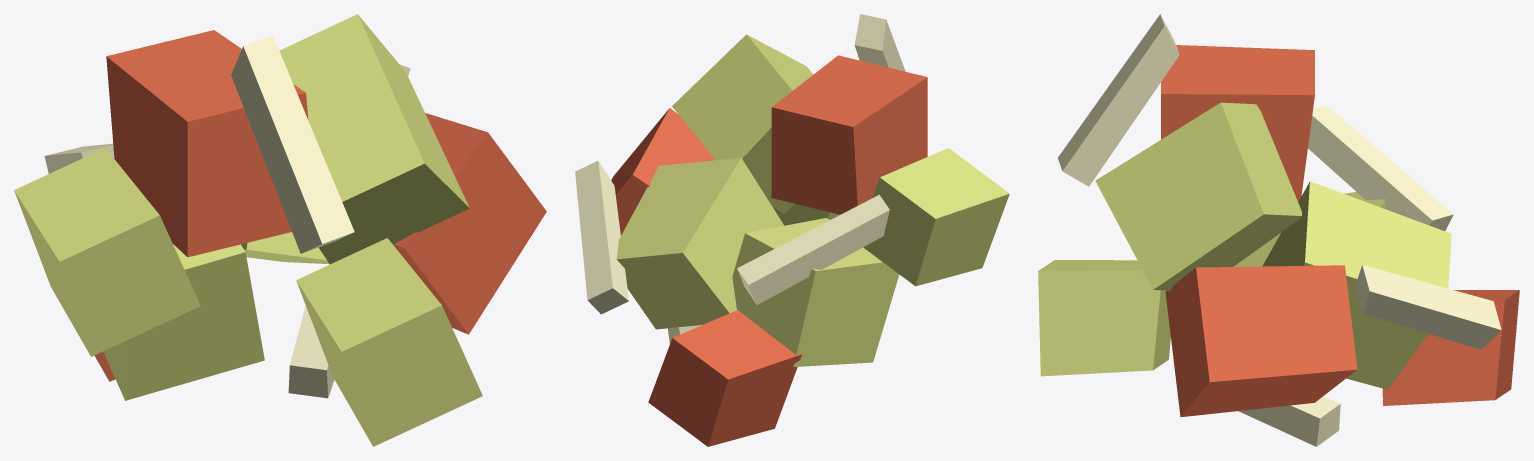
Rendered from CurryMix.fbx.
3 views of the same model, side by side, from view 1: azimuth 30°, elevation 25°; view 2: azimuth 150°, elevation 25°; view 3: azimuth 270°, elevation 25° (orthographic). The views are drawn at different scales.
Visible parts, largest first — view 1: Cube, Cube.001, Cube.007, Cube.005, Cube.002, Cube.004, Cube.011, Cube.010, Cube.003, Cube.008; view 2: Cube, Cube.003, Cube.006, Cube.004, Cube.005, Cube.001, Cube.008, Cube.009, Cube.002, Cube.011, Cube.007; view 3: Cube.002, Cube.001, Cube.003, Cube.007, Cube, Cube.006, Cube.011, Cube.009, Cube.008, Cube.010, Cube.004.
Boxes of the visible parts, box(x1,y1,x2,y2) form: Cube: box(106, 30, 308, 257); Cube.001: box(279, 14, 469, 264); Cube.007: box(296, 238, 482, 446); Cube.005: box(14, 148, 200, 356); Cube.002: box(393, 113, 546, 334); Cube.004: box(103, 244, 264, 400); Cube.011: box(231, 35, 354, 253); Cube.010: box(288, 305, 334, 398); Cube.003: box(241, 232, 329, 264); Cube.008: box(44, 143, 114, 173); Cube: box(771, 55, 927, 214); Cube.003: box(616, 157, 784, 329); Cube.006: box(648, 310, 802, 446); Cube.004: box(732, 218, 899, 366); Cube.005: box(863, 148, 1009, 286); Cube.001: box(672, 34, 813, 213); Cube.008: box(737, 194, 889, 304); Cube.009: box(575, 160, 628, 314); Cube.002: box(611, 108, 715, 235); Cube.011: box(854, 14, 905, 71); Cube.007: box(772, 204, 839, 225); Cube.002: box(1165, 265, 1357, 417); Cube.001: box(1095, 102, 1301, 290); Cube.003: box(1262, 181, 1451, 389); Cube.007: box(1038, 260, 1170, 376); Cube: box(1161, 45, 1314, 201); Cube.006: box(1382, 290, 1519, 405); Cube.011: box(1058, 14, 1179, 186); Cube.009: box(1355, 265, 1501, 349); Cube.008: box(1308, 105, 1453, 231); Cube.010: box(1238, 396, 1340, 446); Cube.004: box(1233, 192, 1386, 266).
Size of the model in its own units: 373 by 311 by 359.
